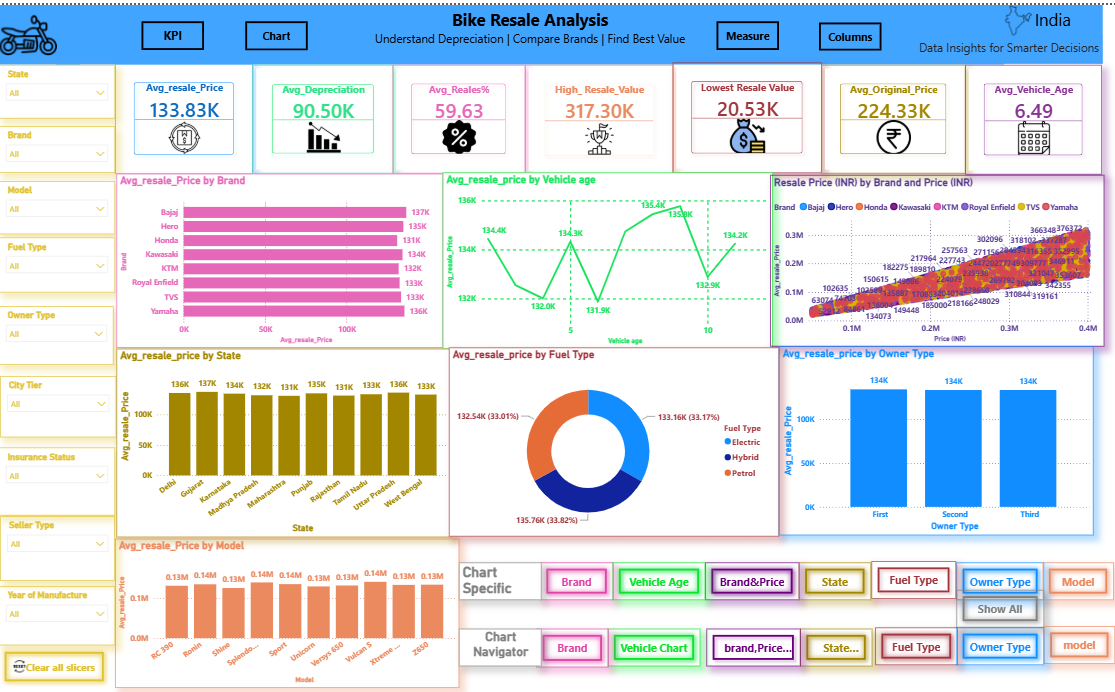

The page's visual inventory and layout, read from the dashboard file:
{"tool":"powerbi","page":{"name":"Dashboard","canvas":[1790,1100],"ordinal":4},"visuals":[{"type":"group","id":"g1","title":"Group 1","box":[0,0,1766.7,95],"z":0},{"type":"textbox","box":[92.7,0,1515,95],"z":0,"group":"g2"},{"type":"actionButton","box":[0,0,129,95],"z":1000,"group":"g2"},{"type":"cardVisual","fields":{"Data":["bike_sales_india.Avg_resale_Price"]},"box":[186,94,220,176],"z":1000},{"type":"actionButton","box":[1606.7,0,160,93.3],"z":2000,"group":"g2"},{"type":"cardVisual","fields":{"Data":["bike_sales_india.Average_Depreciation"]},"box":[405,95,225,173.3],"z":2000},{"type":"textbox","box":[1449.5,50.6,315.1,43.9],"z":3000,"group":"g2"},{"type":"cardVisual","fields":{"Data":["bike_sales_india.Average_Sales%"]},"box":[630,96.7,211.7,173.3],"z":3000},{"type":"group","id":"g2","title":"Group 2","box":[0,0,1766.7,95],"z":3015,"group":"g1"},{"type":"cardVisual","fields":{"Data":["bike_sales_india.Highest Resale Value"]},"box":[841.7,95,236.7,176.7],"z":4000},{"type":"cardVisual","fields":{"Data":["bike_sales_india.Lowest Resale Value"]},"box":[1078,92,238.3,176.7],"z":5000},{"type":"cardVisual","fields":{"Data":["bike_sales_india.Average Original Price"]},"box":[1316.7,95,230,173.3],"z":6000},{"type":"cardVisual","fields":{"Data":["bike_sales_india.Average Vehicle Age"]},"box":[1546.7,95,218.3,175],"z":7000},{"type":"slicer","fields":{"Values":["bike_sales_india.Brand"]},"box":[0,194.4,185.6,74.4],"z":8000},{"type":"slicer","fields":{"Values":["bike_sales_india.Model"]},"box":[0,282.2,185.6,84.4],"z":9000},{"type":"slicer","fields":{"Values":["bike_sales_india.Fuel Type"]},"box":[0,371.1,185.6,87.8],"z":10000},{"type":"slicer","fields":{"Values":["bike_sales_india.Owner Type"]},"box":[0,481.1,183.3,93.3],"z":11000},{"type":"slicer","fields":{"Values":["bike_sales_india.City Tier"]},"box":[1.1,593.3,185.6,97.8],"z":12000},{"type":"slicer","fields":{"Values":["bike_sales_india.Seller Type"]},"box":[2.2,817.8,183.3,103.3],"z":13000},{"type":"slicer","fields":{"Values":["bike_sales_india.Insurance Status"]},"box":[0,708.9,185.6,108.9],"z":14000},{"type":"slicer","fields":{"Values":["bike_sales_india.Year of Manufacture"]},"box":[0,930,185.6,94.4],"z":15000},{"type":"slicer","fields":{"Values":["bike_sales_india.State"]},"box":[0,96.7,185.6,85.6],"z":16000},{"type":"barChart","fields":{"Category":["bike_sales_india.Brand"],"Y":["bike_sales_india.Avg_resale_Price"]},"box":[188,270,522,278],"z":17000},{"type":"lineChart","title":"Avg_resale_price by Vehicle age","fields":{"Y":["bike_sales_india.Avg_resale_Price"],"Category":["bike_sales_india.Vehicle age"]},"box":[710,268,528,282],"z":18000},{"type":"scatterChart","title":"Resale Price (INR) by Brand and Price (INR)","fields":{"Y":["bike_sales_india.Avg_resale_Price"],"Series":["bike_sales_india.Brand"],"X":["bike_sales_india.Price (INR)"]},"box":[1234,272,534,274],"z":19000},{"type":"columnChart","title":"Avg_resale_price by State","fields":{"Category":["bike_sales_india.State"],"Y":["bike_sales_india.Avg_resale_Price"]},"box":[188,550,536.7,301.7],"z":20000},{"type":"donutChart","title":" Avg_resale_price by Fuel Type","fields":{"Category":["bike_sales_india.Fuel Type"],"Y":["bike_sales_india.Avg_resale_Price"]},"box":[720,548,528,302],"z":21000},{"type":"columnChart","title":" Avg_resale_price by Owner Type","fields":{"Category":["bike_sales_india.Owner Type"],"Y":["bike_sales_india.Avg_resale_Price"]},"box":[1248,546,503,302],"z":22000},{"type":"columnChart","fields":{"Category":["bike_sales_india.Model"],"Y":["bike_sales_india.Avg_resale_Price"]},"box":[186,854,550,238],"z":23000},{"type":"actionButton","box":[0,1025,176.7,65],"z":24000},{"type":"actionButton","box":[228,26,100,46],"z":25000},{"type":"actionButton","box":[1311.7,28.3,100,45],"z":26000},{"type":"actionButton","box":[1148,26,100,46],"z":27000},{"type":"actionButton","box":[393.3,26.7,100,46.7],"z":28000},{"type":"actionButton","box":[866,892,116.7,60],"z":29000},{"type":"actionButton","box":[1130,892,150,60],"z":30000},{"type":"actionButton","box":[982,892,148.3,60],"z":31000},{"type":"actionButton","box":[1280,892,115,60],"z":32000},{"type":"actionButton","box":[974,998,148.3,60],"z":33000},{"type":"actionButton","box":[1532,892,140,60],"z":34000},{"type":"actionButton","box":[1396,890,135,60],"z":35000},{"type":"actionButton","box":[1532,936,140,60],"z":36000},{"type":"actionButton","box":[860,998,115,61.7],"z":37000},{"type":"actionButton","box":[1282,998,115,60],"z":38000},{"type":"actionButton","box":[1402,996,131.7,60],"z":39000},{"type":"actionButton","box":[1672,994,113.3,60],"z":40000},{"type":"actionButton","box":[1532,996,140,60],"z":41000},{"type":"actionButton","box":[1132,998,150,60],"z":42000},{"type":"actionButton","box":[1670,892,113.3,60],"z":43000},{"type":"textbox","title":" Chart Specific ","box":[736,892,132,60],"z":43001},{"type":"textbox","title":"Chart Navigator","box":[736,998,132,60],"z":43002}]}

Visuals, with their boxes in screenshot pixels (x1, y1, x2, y2), scaled from the page's 1790x1100 canvas onto the 1115x692 screenshot:
"Group 1" group: <box>0,0,1100,60</box>
textbox: <box>58,0,1001,60</box>
actionButton: <box>0,0,80,60</box>
cardVisual - bike_sales_india.Avg_resale_Price: <box>116,59,253,170</box>
actionButton: <box>1001,0,1100,59</box>
cardVisual - bike_sales_india.Average_Depreciation: <box>252,60,392,169</box>
textbox: <box>903,32,1099,59</box>
cardVisual - bike_sales_india.Average_Sales%: <box>392,61,524,170</box>
"Group 2" group: <box>0,0,1100,60</box>
cardVisual - bike_sales_india.Highest Resale Value: <box>524,60,672,171</box>
cardVisual - bike_sales_india.Lowest Resale Value: <box>671,58,820,169</box>
cardVisual - bike_sales_india.Average Original Price: <box>820,60,963,169</box>
cardVisual - bike_sales_india.Average Vehicle Age: <box>963,60,1099,170</box>
slicer - bike_sales_india.Brand: <box>0,122,116,169</box>
slicer - bike_sales_india.Model: <box>0,178,116,231</box>
slicer - bike_sales_india.Fuel Type: <box>0,233,116,289</box>
slicer - bike_sales_india.Owner Type: <box>0,303,114,361</box>
slicer - bike_sales_india.City Tier: <box>1,373,116,435</box>
slicer - bike_sales_india.Seller Type: <box>1,514,116,579</box>
slicer - bike_sales_india.Insurance Status: <box>0,446,116,514</box>
slicer - bike_sales_india.Year of Manufacture: <box>0,585,116,644</box>
slicer - bike_sales_india.State: <box>0,61,116,115</box>
barChart - bike_sales_india.Brand x bike_sales_india.Avg_resale_Price: <box>117,170,442,345</box>
"Avg_resale_price by Vehicle age" lineChart: <box>442,169,771,346</box>
"Resale Price (INR) by Brand and Price (INR)" scatterChart: <box>769,171,1101,343</box>
"Avg_resale_price by State" columnChart: <box>117,346,451,536</box>
" Avg_resale_price by Fuel Type" donutChart: <box>448,345,777,535</box>
" Avg_resale_price by Owner Type" columnChart: <box>777,343,1091,533</box>
columnChart - bike_sales_india.Model x bike_sales_india.Avg_resale_Price: <box>116,537,458,687</box>
actionButton: <box>0,645,110,686</box>
actionButton: <box>142,16,204,45</box>
actionButton: <box>817,18,879,46</box>
actionButton: <box>715,16,777,45</box>
actionButton: <box>245,17,307,46</box>
actionButton: <box>539,561,612,599</box>
actionButton: <box>704,561,797,599</box>
actionButton: <box>612,561,704,599</box>
actionButton: <box>797,561,869,599</box>
actionButton: <box>607,628,699,666</box>
actionButton: <box>954,561,1041,599</box>
actionButton: <box>870,560,954,598</box>
actionButton: <box>954,589,1041,627</box>
actionButton: <box>536,628,607,667</box>
actionButton: <box>799,628,870,666</box>
actionButton: <box>873,627,955,664</box>
actionButton: <box>1041,625,1112,663</box>
actionButton: <box>954,627,1041,664</box>
actionButton: <box>705,628,799,666</box>
actionButton: <box>1040,561,1111,599</box>
" Chart Specific " textbox: <box>458,561,541,599</box>
"Chart Navigator" textbox: <box>458,628,541,666</box>
